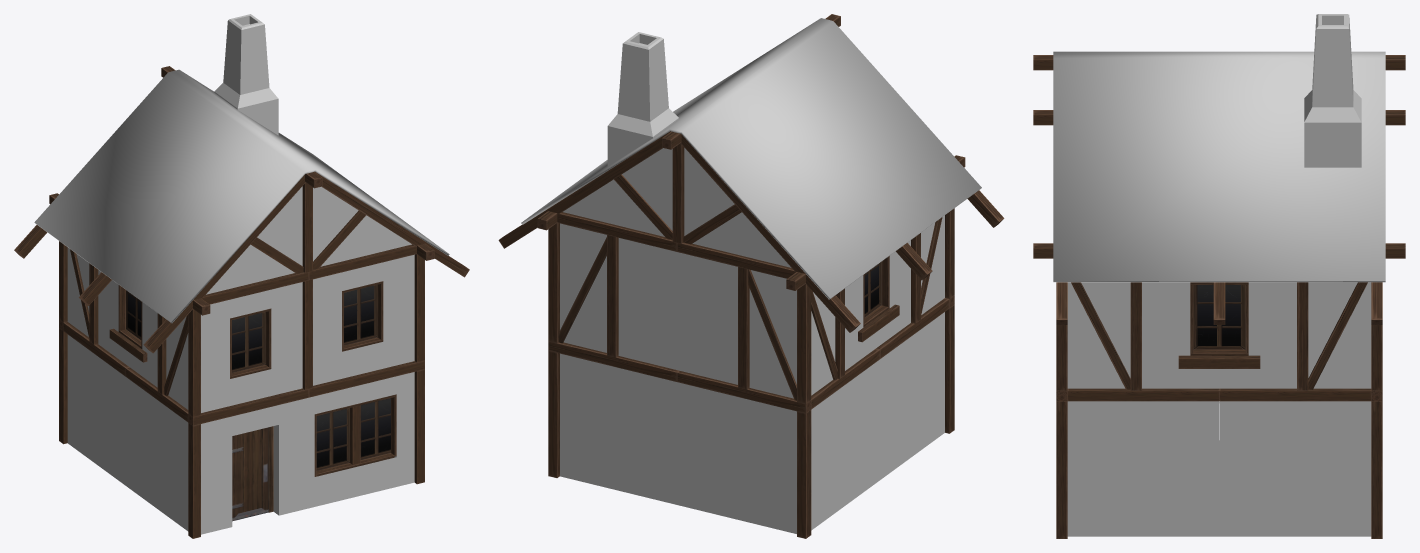
The model's file is House1.fbx.
3 views of the same model, side by side, from view 1: azimuth 30°, elevation 25°; view 2: azimuth 150°, elevation 25°; view 3: azimuth 270°, elevation 25° (orthographic). The views are drawn at different scales.
Visible parts, largest first — view 1: House1; view 2: House1; view 3: House1.
Boxes of the visible parts, left/top/right/bottom form: House1: left=14, top=14, right=469, bottom=538; House1: left=498, top=14, right=1004, bottom=538; House1: left=1033, top=14, right=1405, bottom=538.
Bounding box in the file's own units: 7.9 × 9.24 × 6.5.
